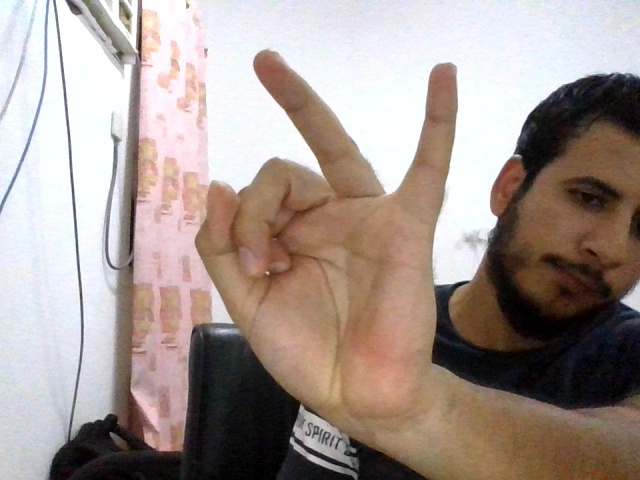Two: (194, 50, 459, 402)
